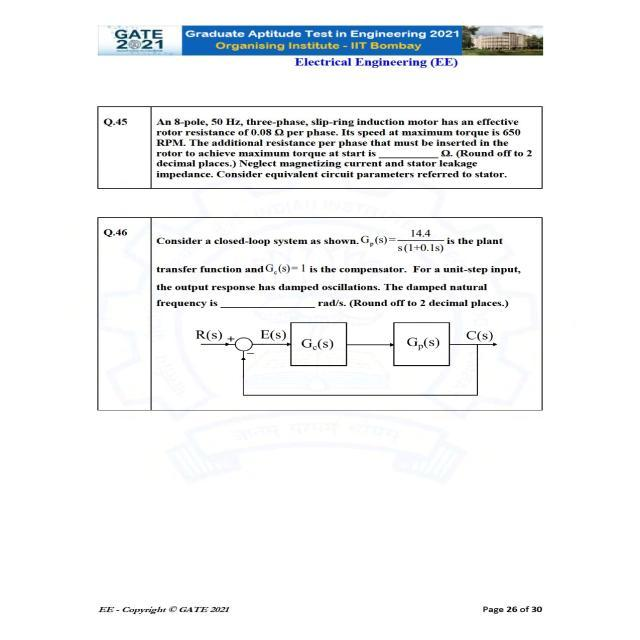Question_Answer_Block: (96, 218, 540, 410), (96, 106, 540, 189)
Question_Block: (96, 218, 540, 410), (96, 106, 540, 189)
Question_Paper_Area: (96, 106, 540, 410)
